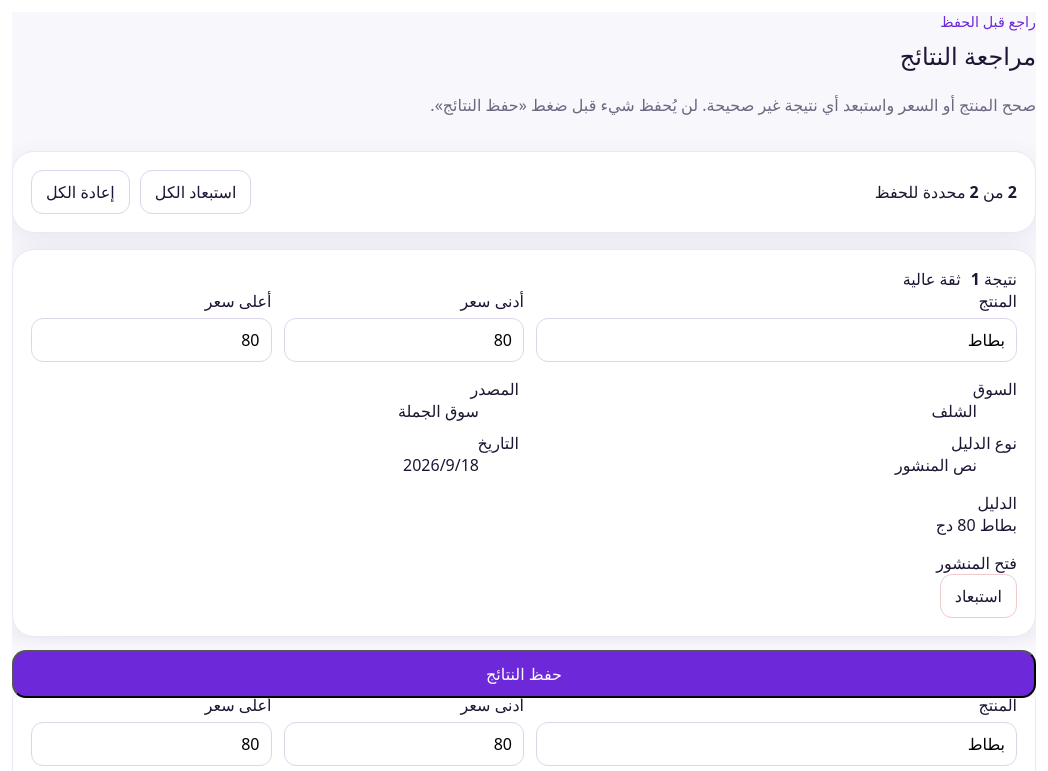
Test: ReviewPage › supports rejecting all candidates and restoring them in one action
Step 1. Click the button "استبعاد الكل" → (196, 192), box [140, 170, 252, 214]
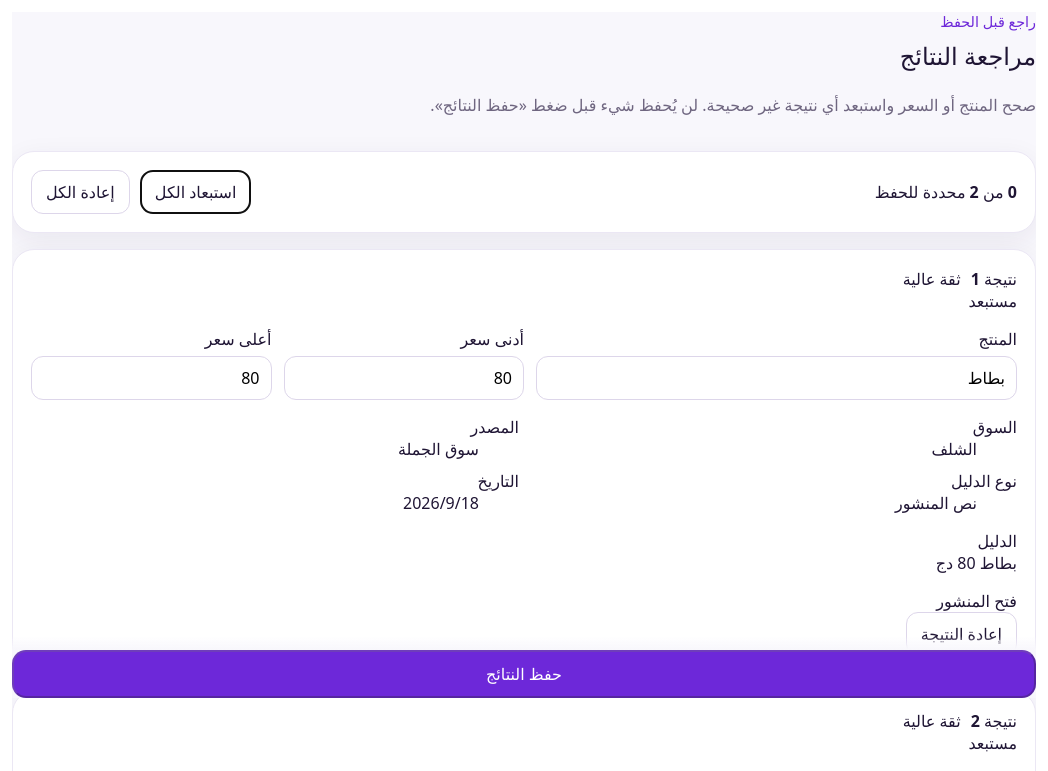
Check: the text "مستبعد" is shown 2 times, box [968, 290, 1017, 312]; [968, 732, 1017, 754]
Step 2. Click the button "إعادة الكل" → (80, 192), box [31, 170, 130, 214]
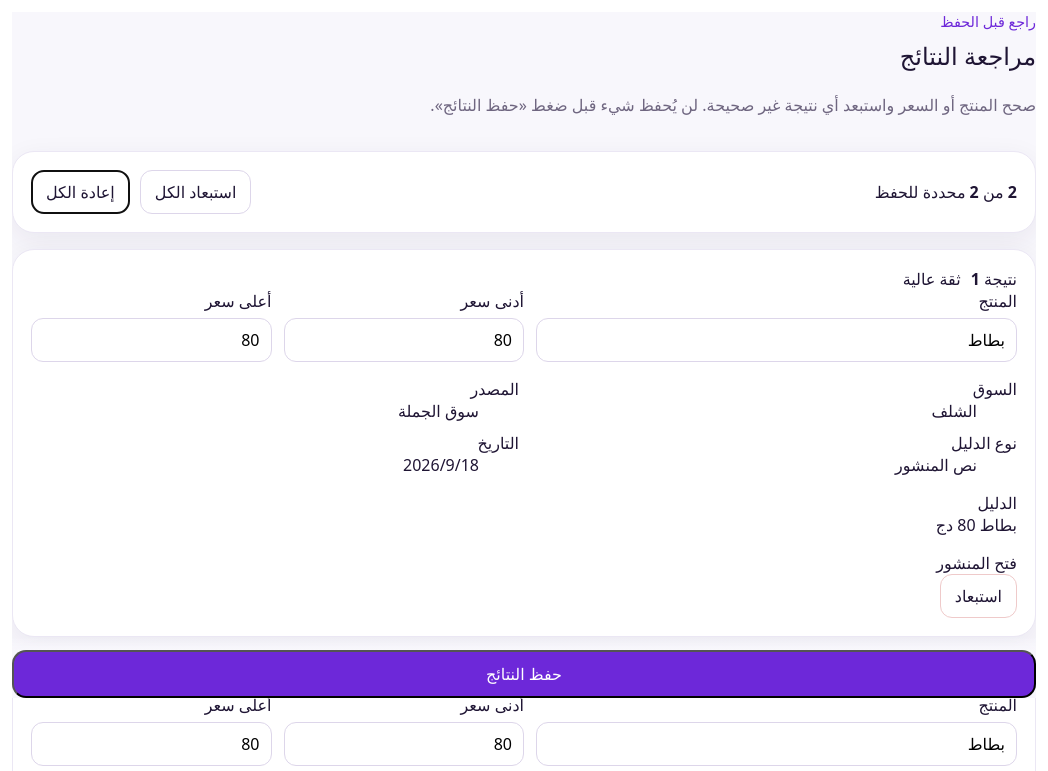
Check: the text "مستبعد" is gone
